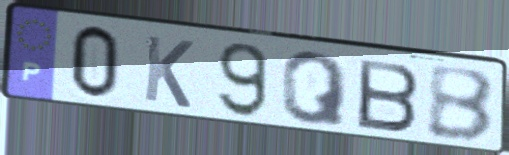0: (67, 23, 125, 106)
9: (213, 41, 272, 120)
B: (425, 64, 498, 145), (355, 55, 423, 135)
K: (141, 32, 197, 112)
Q: (279, 49, 351, 129)
